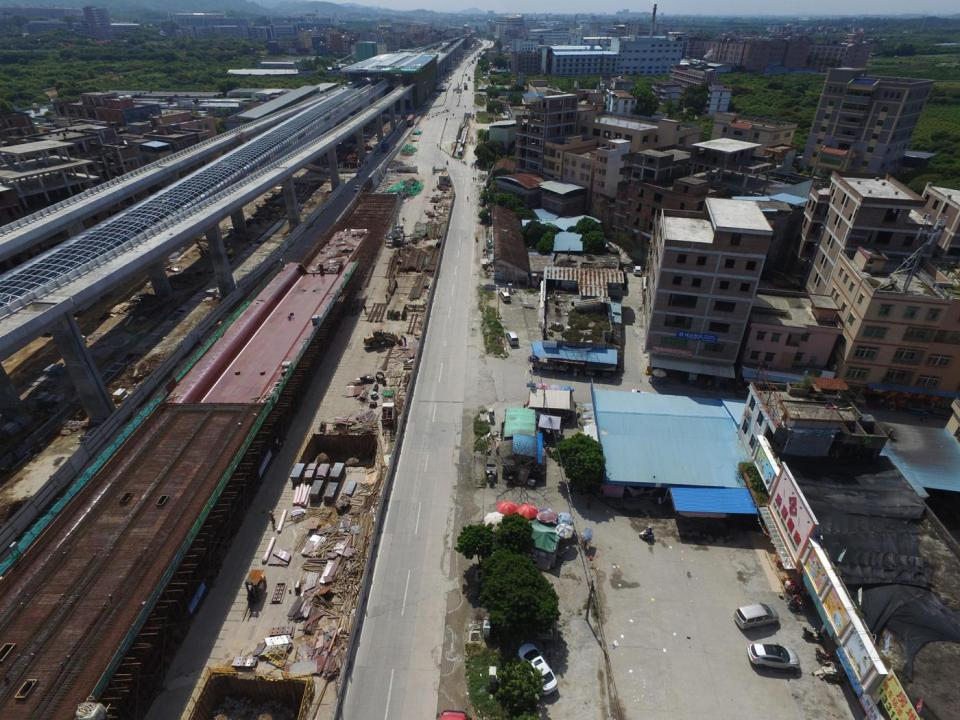car: (519, 644, 558, 695), (747, 642, 799, 672), (632, 388, 662, 406), (506, 332, 519, 347), (499, 292, 511, 302), (634, 266, 641, 275), (446, 80, 448, 82), (449, 78, 451, 80), (465, 74, 467, 75)
truck: (407, 114, 414, 127), (381, 141, 389, 152), (464, 84, 468, 90), (468, 76, 470, 81)
van: (734, 603, 778, 632)
